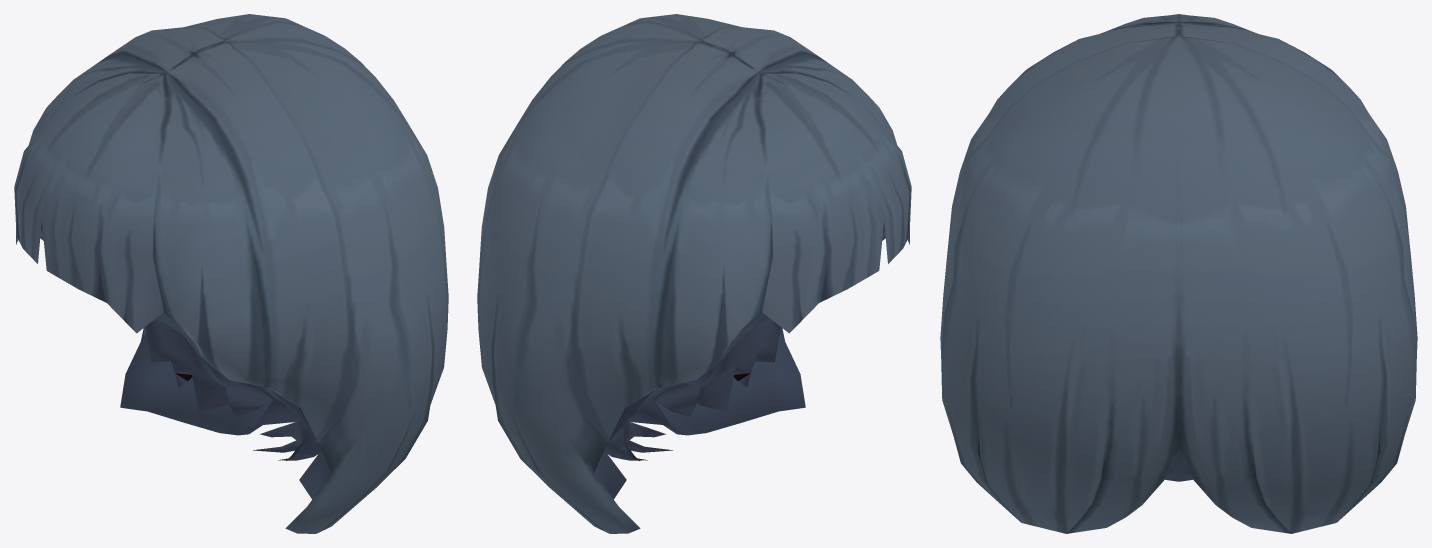
Rendered from hair_bowl_blue.gltf.
The picture shows the model from 3 angles, left to right: view 1: azimuth 30°, elevation 25°; view 2: azimuth 150°, elevation 25°; view 3: azimuth 270°, elevation 25°; orthographic projection. The views are drawn at different scales.
Parts seen in each view (by area): view 1: bowl; view 2: bowl; view 3: bowl.
Boxes of the visible parts, <box> form: bowl: <box>14,14,448,533</box>; bowl: <box>477,14,911,533</box>; bowl: <box>940,14,1417,533</box>.
Size of the model in its own units: 0.6084 by 0.7001 by 0.6428.
1 material, 1 textured.
